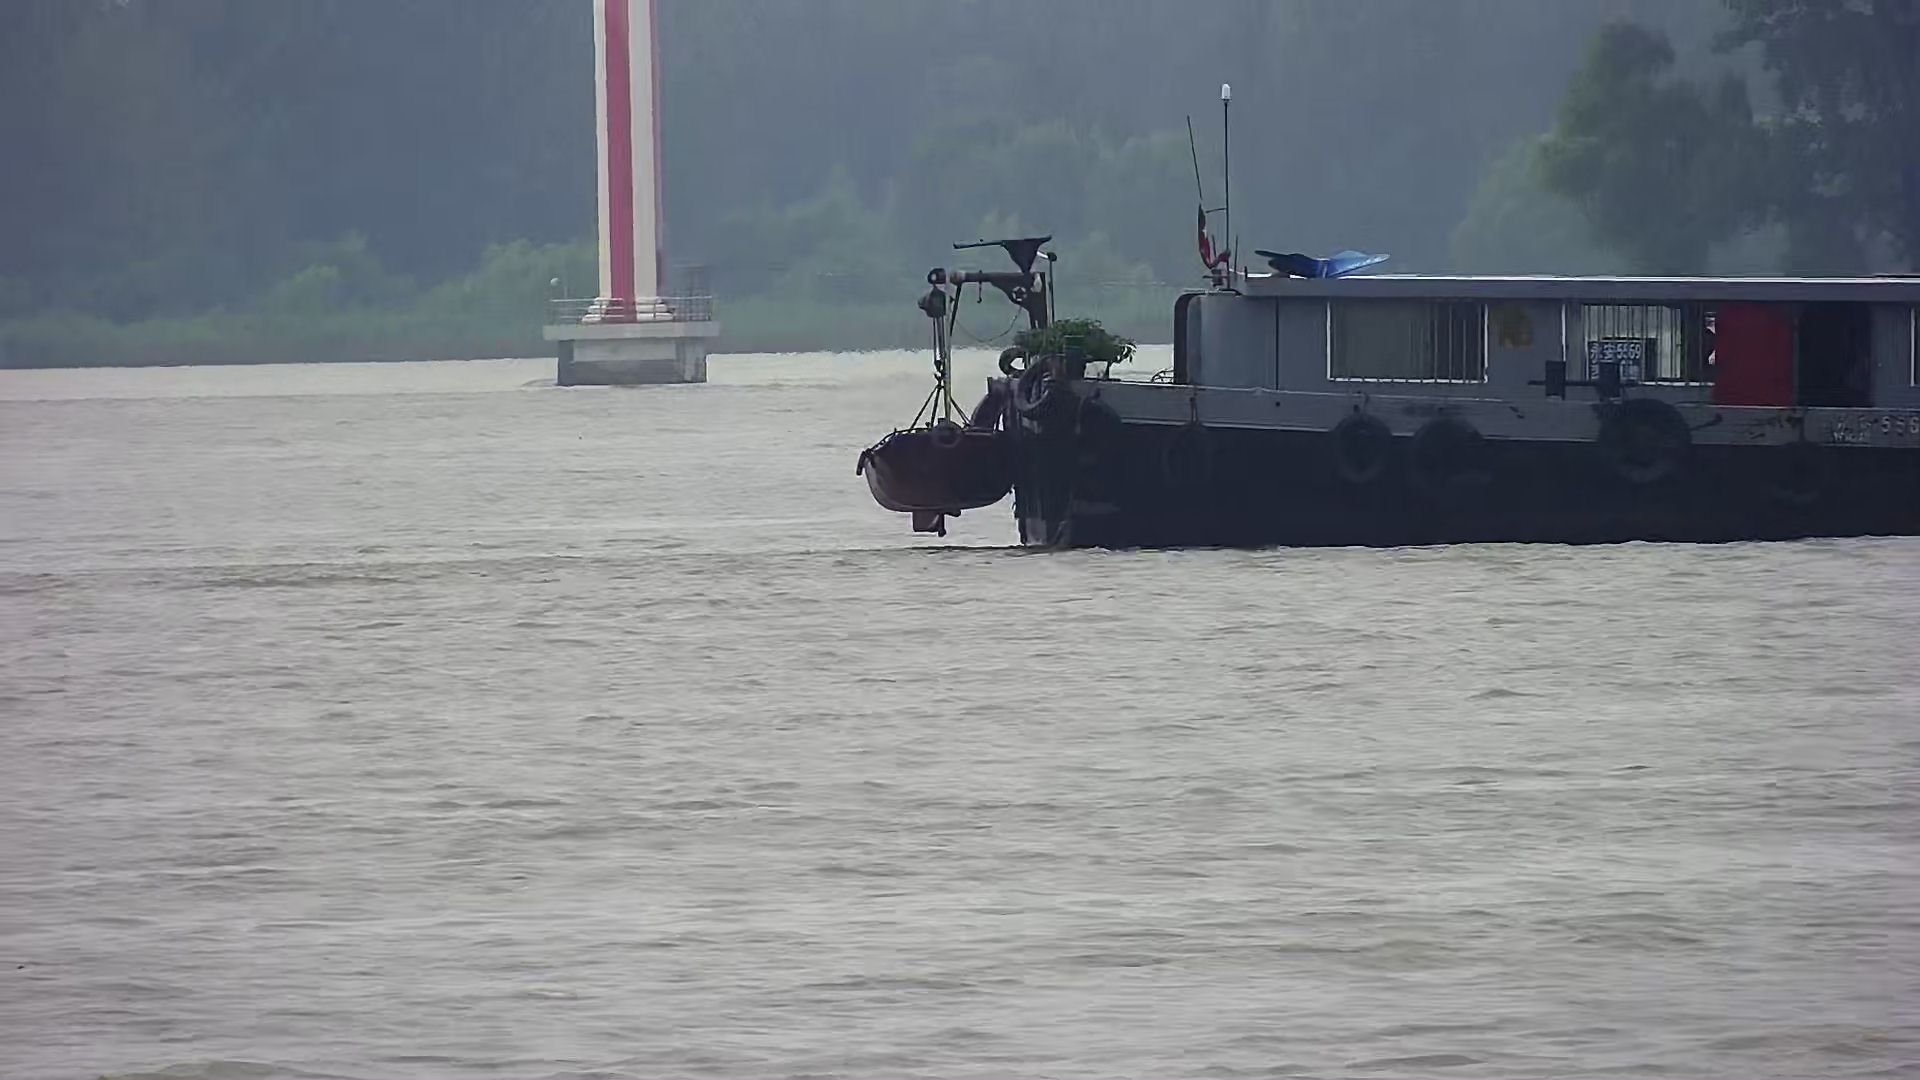platform: (539, 1, 721, 386)
ship: (853, 220, 1920, 545)
tree: (1530, 20, 1768, 280), (1738, 3, 1920, 280)
